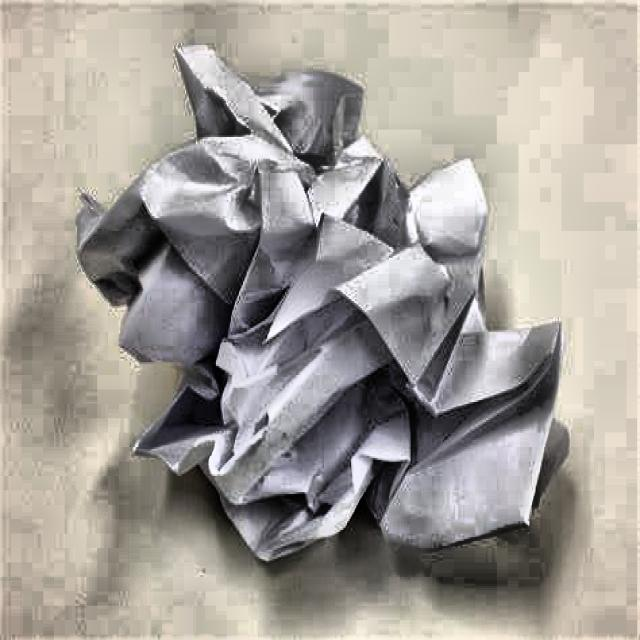Paper: (57, 38, 589, 579)
